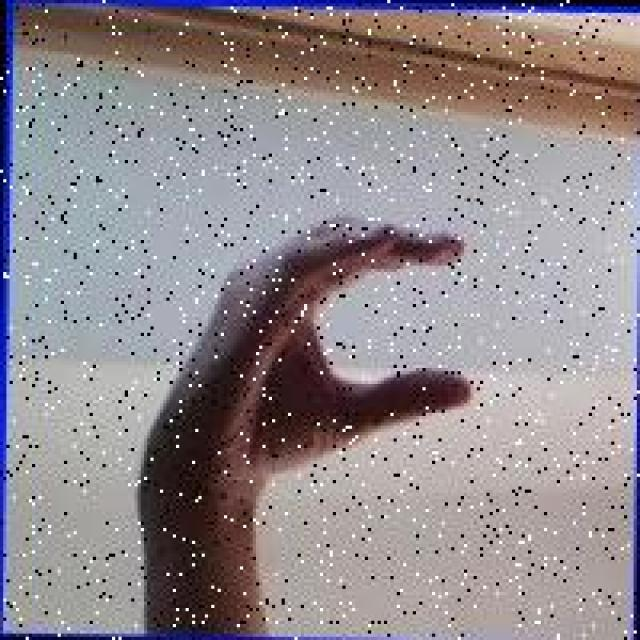C: (139, 206, 482, 485)
